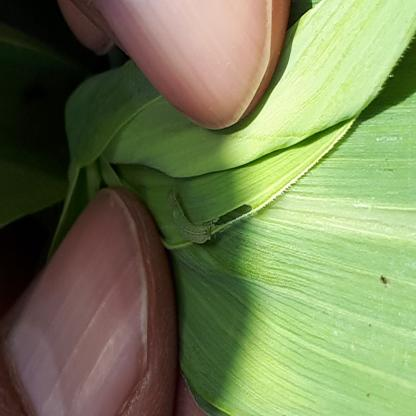armyworm: (94, 292, 138, 382)
